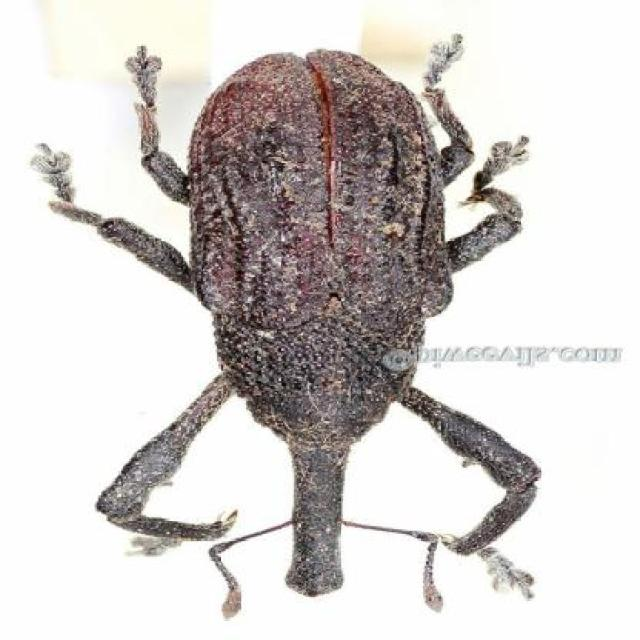rice-bug: (41, 30, 552, 619)
